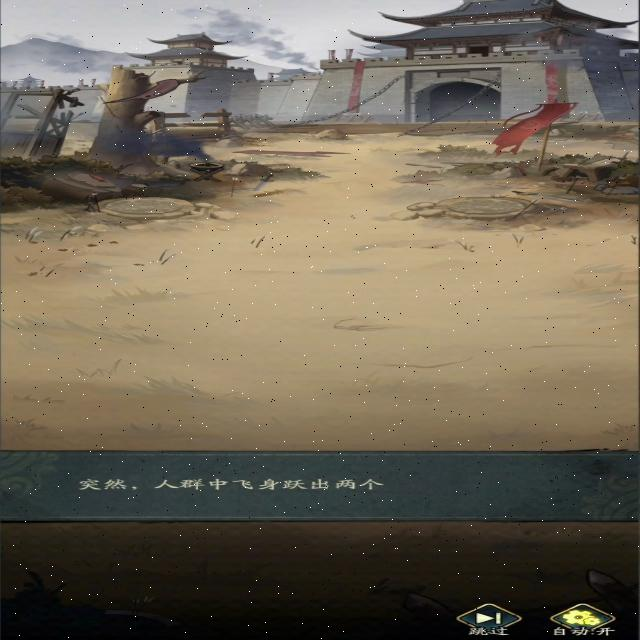system-auto: (549, 602, 622, 637)
system-skip: (448, 599, 526, 638)
